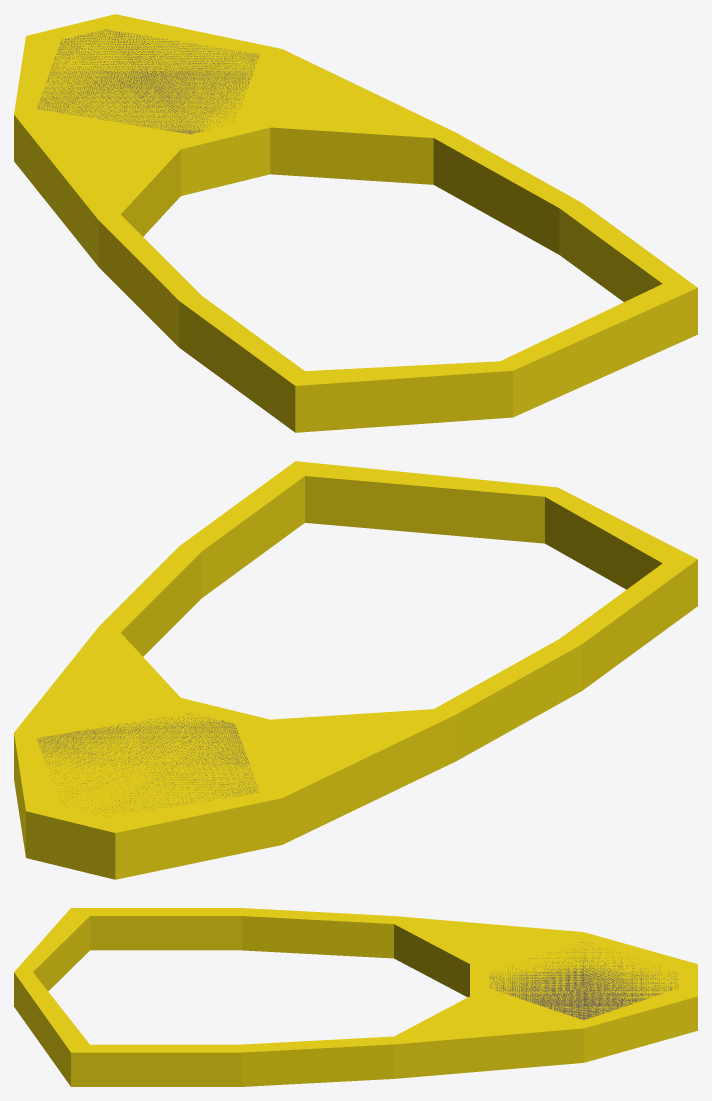
Rendered from inv_sapphire_necklace.obj.
3 views of the same model, one above another, from view 1: azimuth 30°, elevation 25°; view 2: azimuth 150°, elevation 25°; view 3: azimuth 270°, elevation 25° (orthographic). The views are drawn at different scales.
Size of the model in its own units: 0.1406 by 0.0156 by 0.2812.
